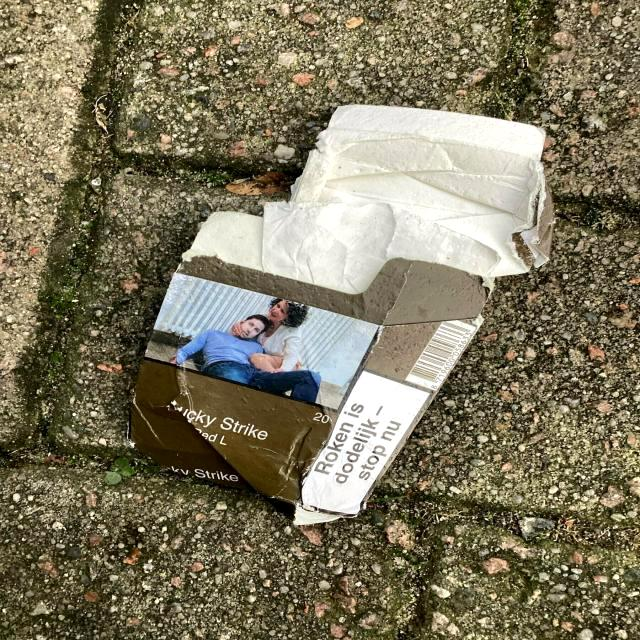Paper: (119, 95, 559, 533)
